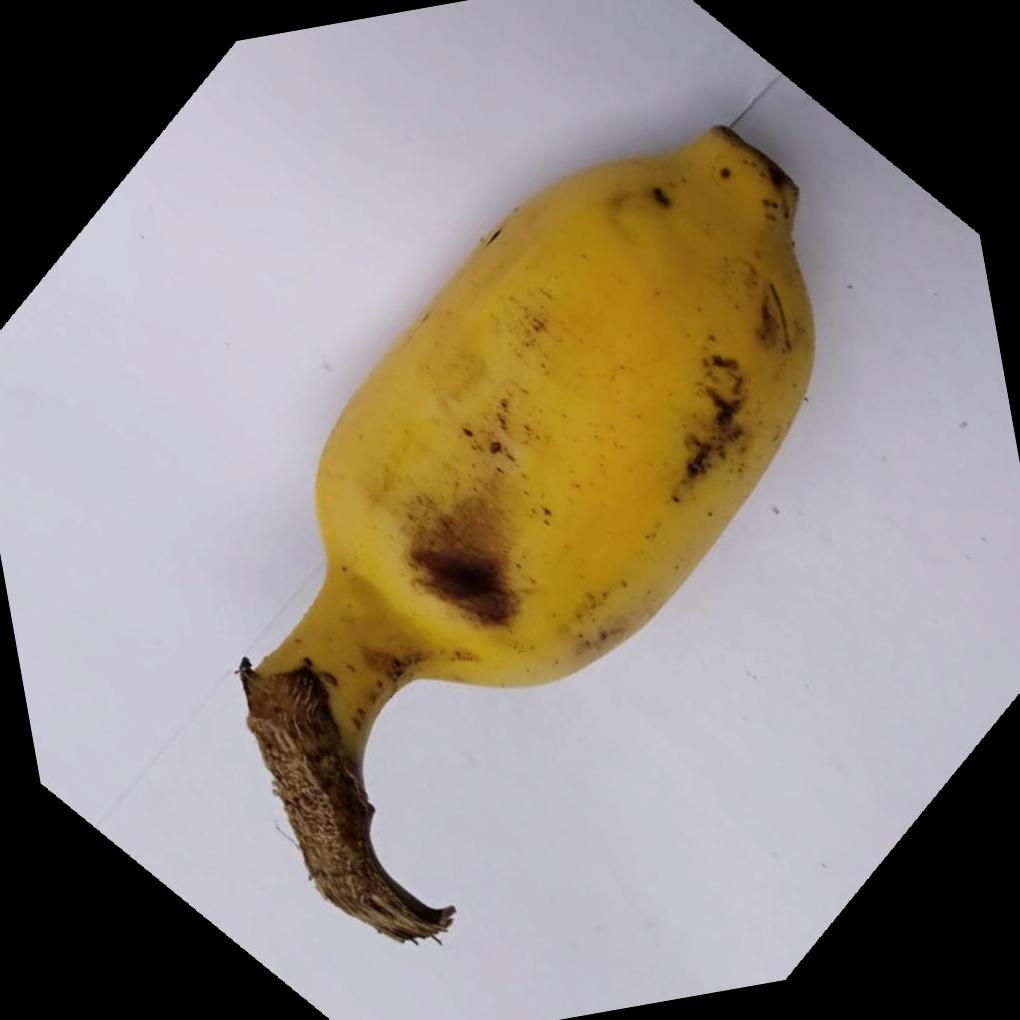Banana Ripe: (138, 103, 920, 876)
